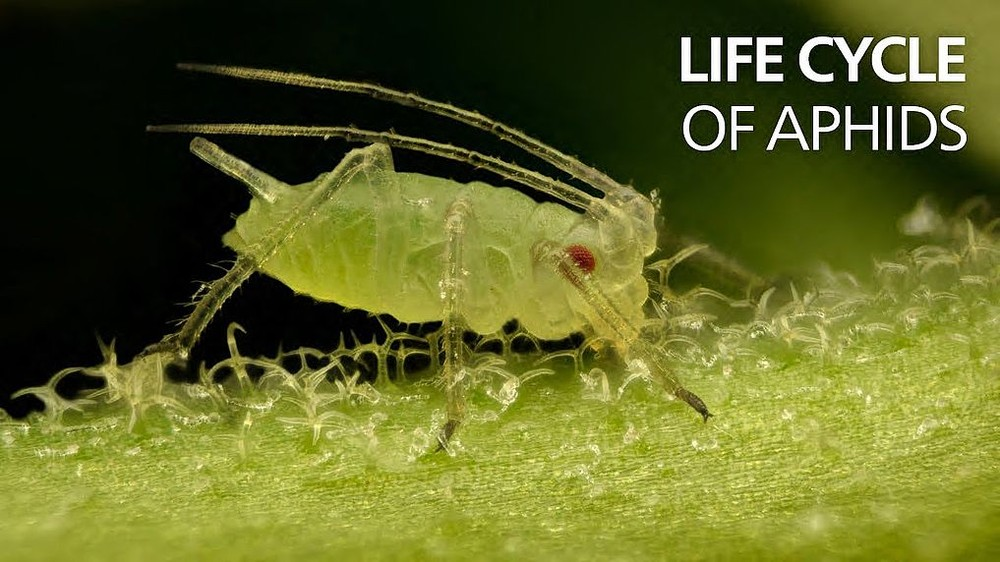Pulgon: (149, 68, 721, 462)
